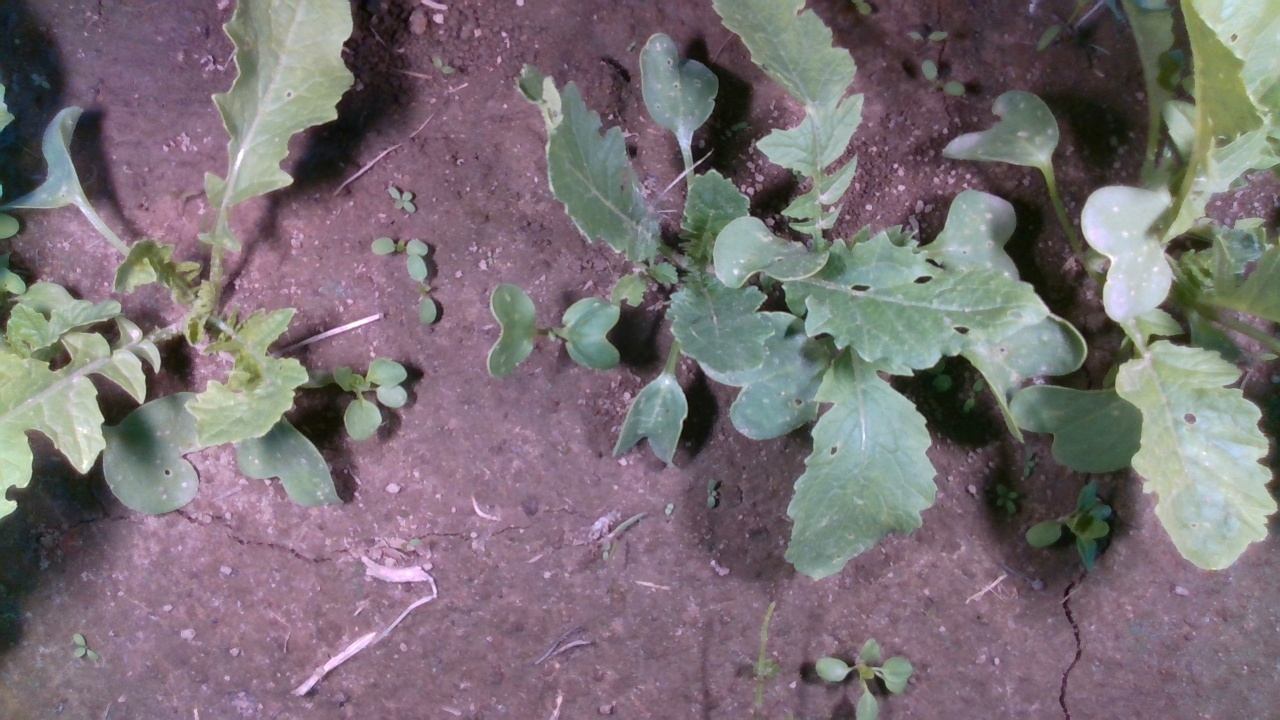weed: (380, 182, 423, 213), (905, 29, 950, 44)
